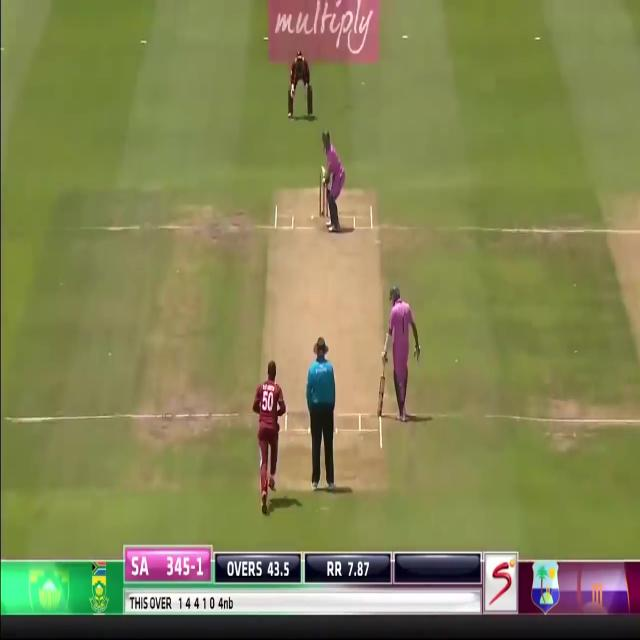Ball: (383, 284, 419, 420), (320, 130, 347, 231)
Fielder: (253, 361, 287, 505), (290, 51, 311, 120)
Umpire: (306, 337, 337, 493)
